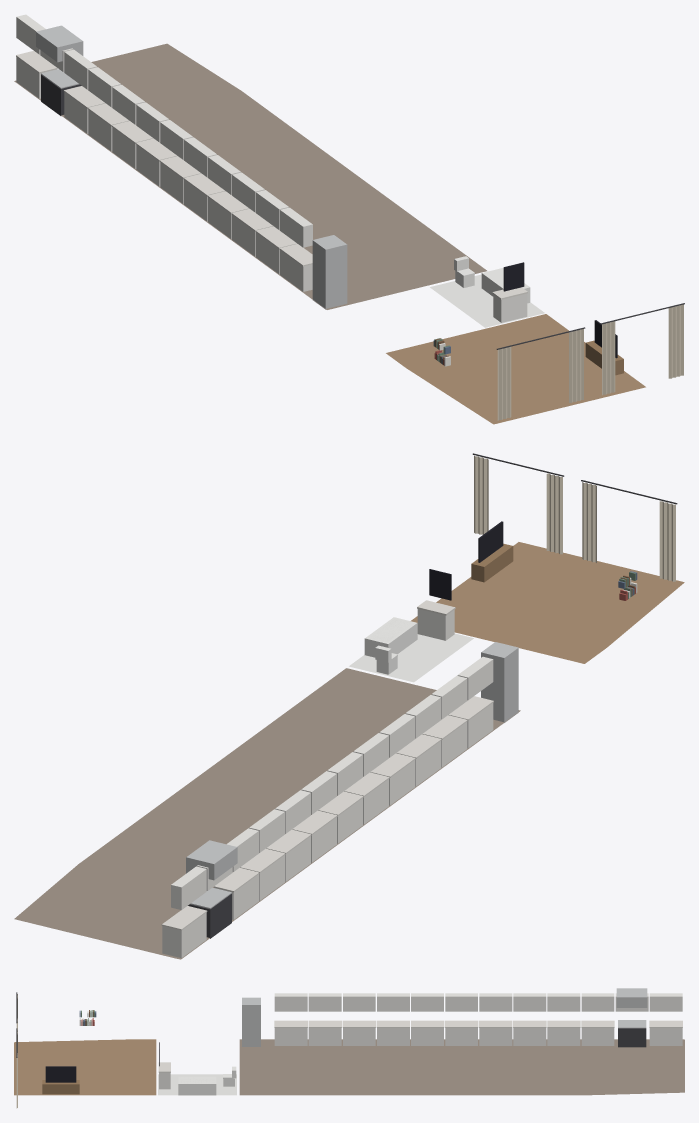
The model's file is fine-s2.glb.
The picture shows the model from 3 angles, top to bottom: view 1: azimuth 30°, elevation 25°; view 2: azimuth 150°, elevation 25°; view 3: azimuth 270°, elevation 25°; orthographic projection. The views are drawn at different scales.
Parts seen in each view (by area): view 1: soft-s2, fridge.001, range.001, vanity.001, counter-run.021, counter-run.011, counter-run.013, counter-run.015, counter-run.014, counter-run.012, counter-run.019, counter-run.017 (+15 smaller); view 2: soft-s2, range.001, fridge.001, vanity.001, counter-run.011, tv-console.002, bathtub.001, counter-run.012, counter-run.018, counter-run.019, counter-run.021, counter-run.020 (+16 smaller); view 3: soft-s2, range.001, tv-console.002, fridge.001, counter-run.011, counter-run.012, counter-run.013, counter-run.014, counter-run.021, counter-run.015, counter-run.020, counter-run.016 (+16 smaller).
Boxes of the visible parts, x1,y1,x2,y2 form: soft-s2: [14, 43, 684, 424]; fridge.001: [312, 235, 347, 309]; range.001: [36, 25, 83, 115]; vanity.001: [492, 262, 527, 322]; counter-run.021: [279, 244, 312, 291]; counter-run.011: [16, 51, 57, 98]; counter-run.013: [87, 103, 129, 151]; counter-run.015: [135, 138, 177, 186]; counter-run.014: [111, 121, 153, 168]; counter-run.012: [63, 86, 105, 133]; counter-run.019: [231, 208, 272, 256]; counter-run.017: [183, 173, 225, 221]; soft-s2: [14, 453, 684, 959]; range.001: [186, 840, 237, 938]; fridge.001: [481, 642, 518, 722]; vanity.001: [417, 569, 455, 640]; counter-run.011: [161, 906, 207, 957]; tv-console.002: [471, 521, 513, 582]; bathtub.001: [364, 617, 417, 657]; counter-run.012: [214, 868, 259, 919]; counter-run.018: [370, 753, 415, 805]; counter-run.019: [396, 734, 441, 786]; counter-run.021: [448, 696, 493, 748]; counter-run.020: [422, 715, 467, 767]; soft-s2: [14, 992, 684, 1108]; range.001: [616, 988, 647, 1047]; tv-console.002: [42, 1066, 79, 1094]; fridge.001: [242, 997, 260, 1046]; counter-run.011: [649, 1020, 682, 1045]; counter-run.012: [581, 1020, 614, 1045]; counter-run.013: [547, 1020, 580, 1045]; counter-run.014: [513, 1020, 546, 1045]; counter-run.021: [274, 1020, 307, 1045]; counter-run.015: [479, 1020, 512, 1045]; counter-run.020: [308, 1020, 341, 1045]; counter-run.016: [445, 1020, 478, 1045].
Bounding box in the file's own units: 7.17 × 2.45 × 28.54.
